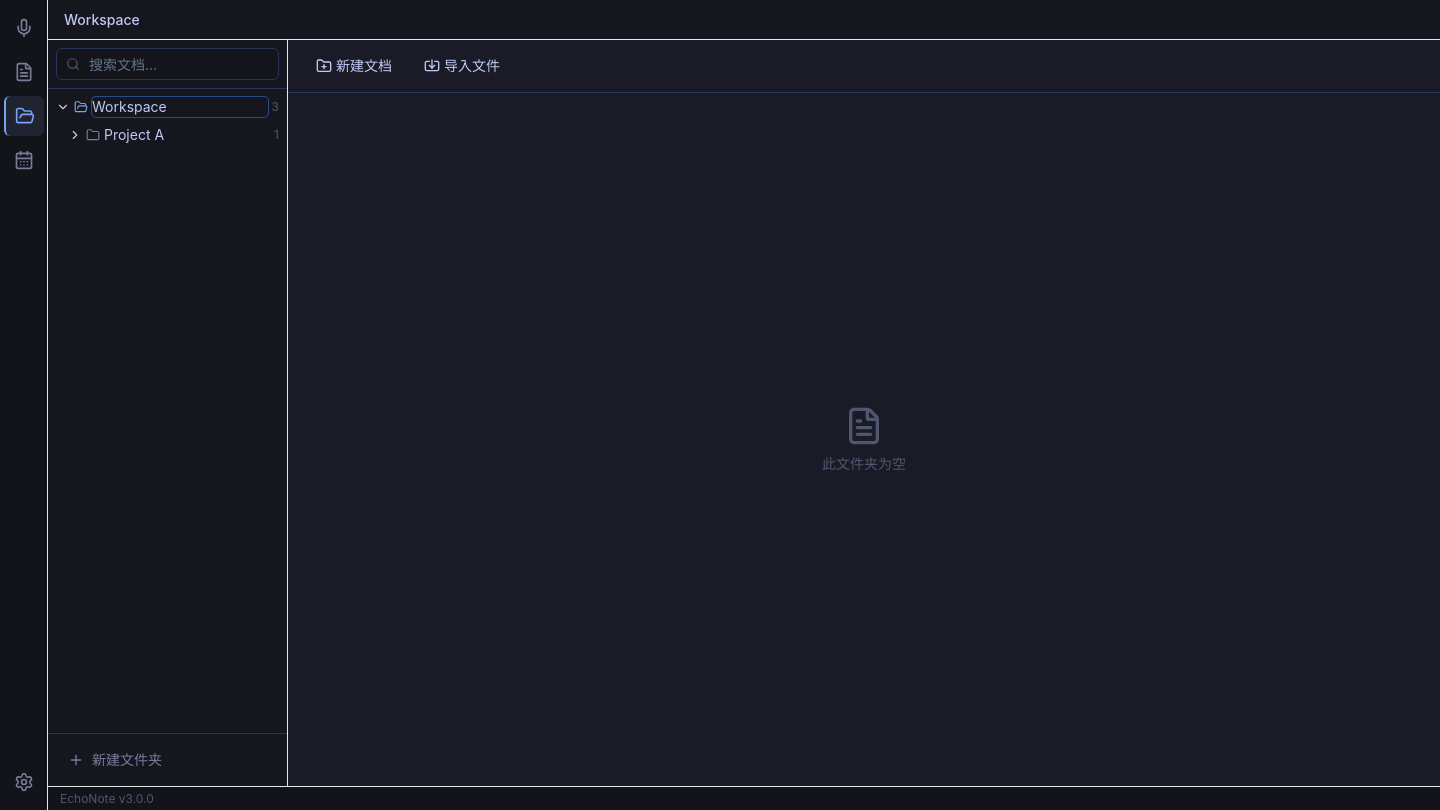
Test case: workspace routing › keeps the ancestor chain expanded when navigating from search into a deep document
The width and height of the screenshot is (1440, 810).
In the field with placeholder "搜索文档…": (168, 64) [56,48,279,80], type "Deep"
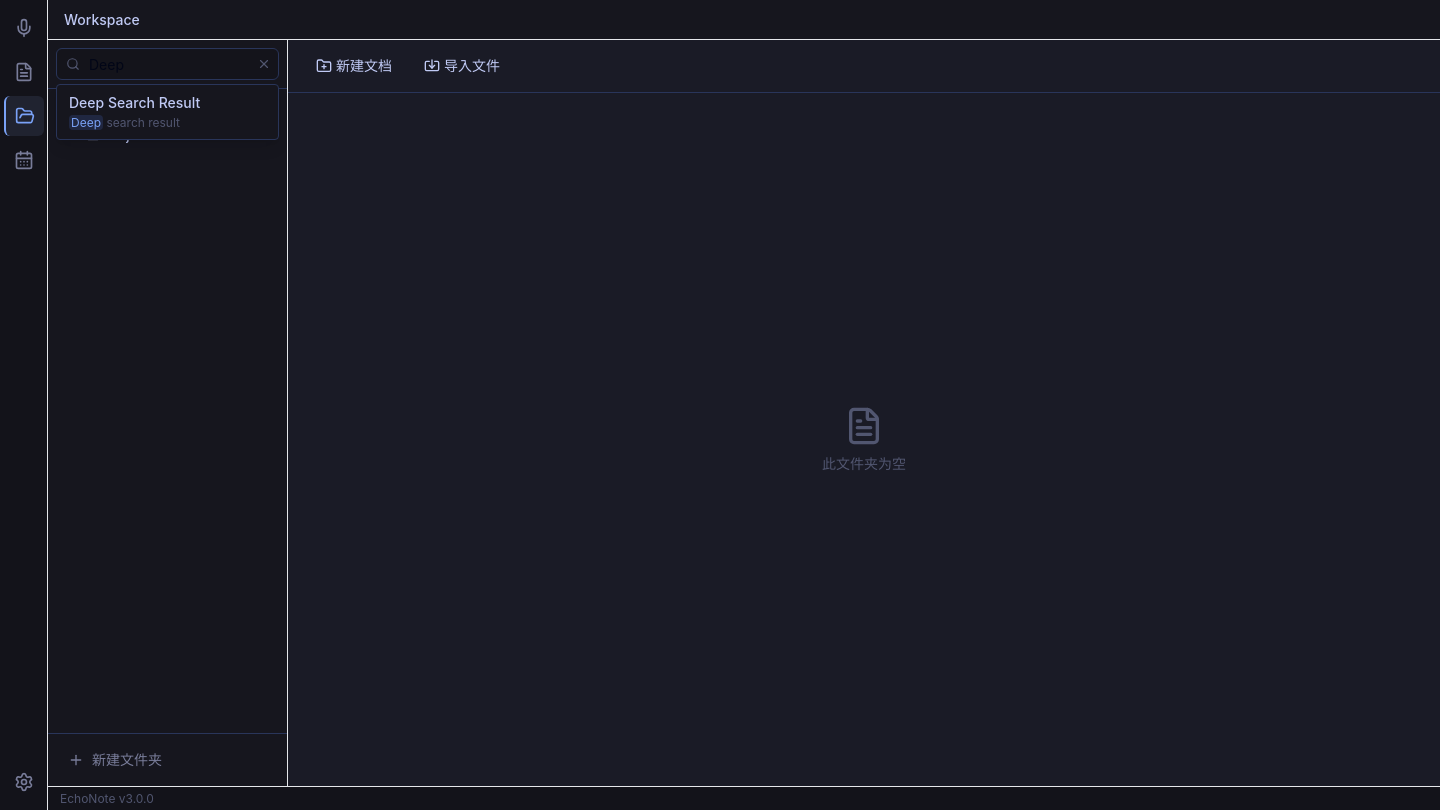
Click the text "Deep Search Result": (135, 102) [69,94,200,111]
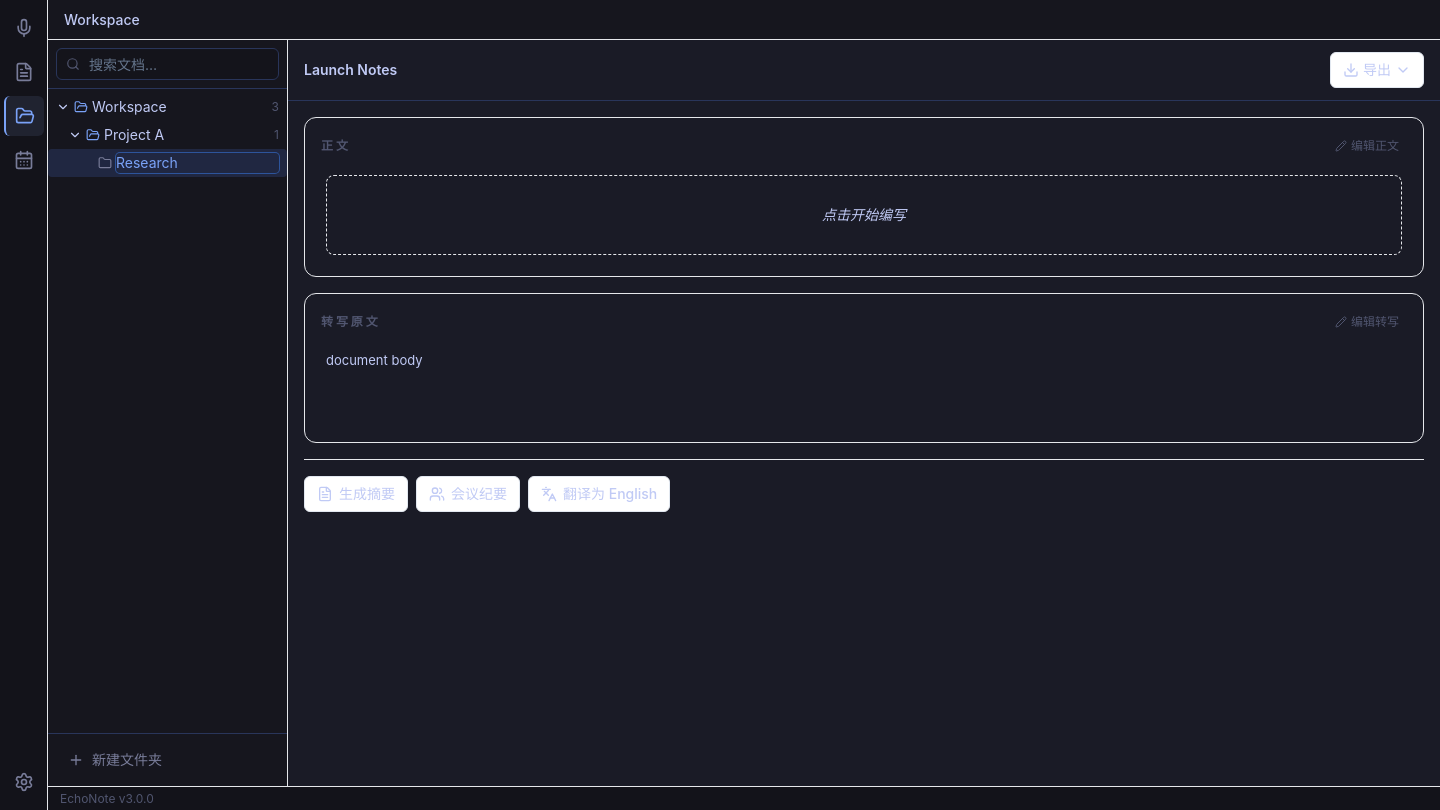
Expected: the field named "标题" holds "Launch Notes", [304,60,1318,80]
Expected: the button named "折叠 Project A" is expanded, [68,128,82,142]
